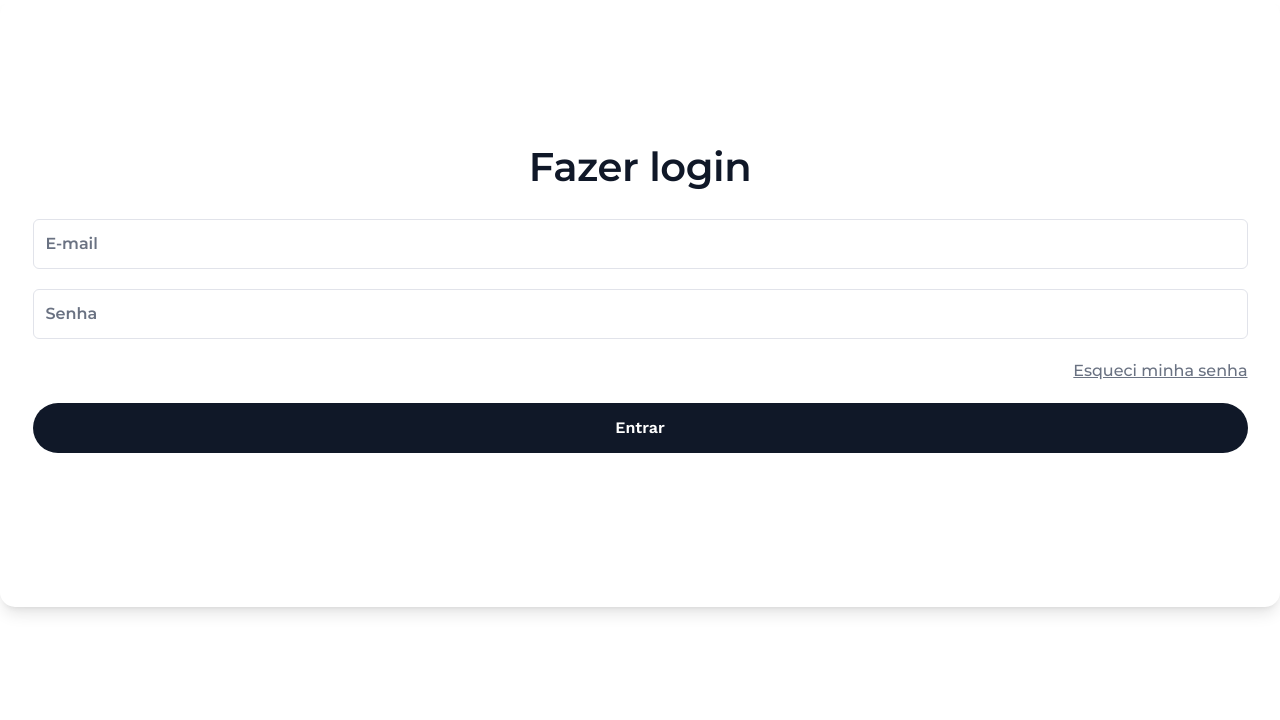
Test: LoginForm › should display validation errors for empty fields
Click the button "Entrar".
click(640, 428)  # box x1=32 y1=402 x2=1248 y2=452
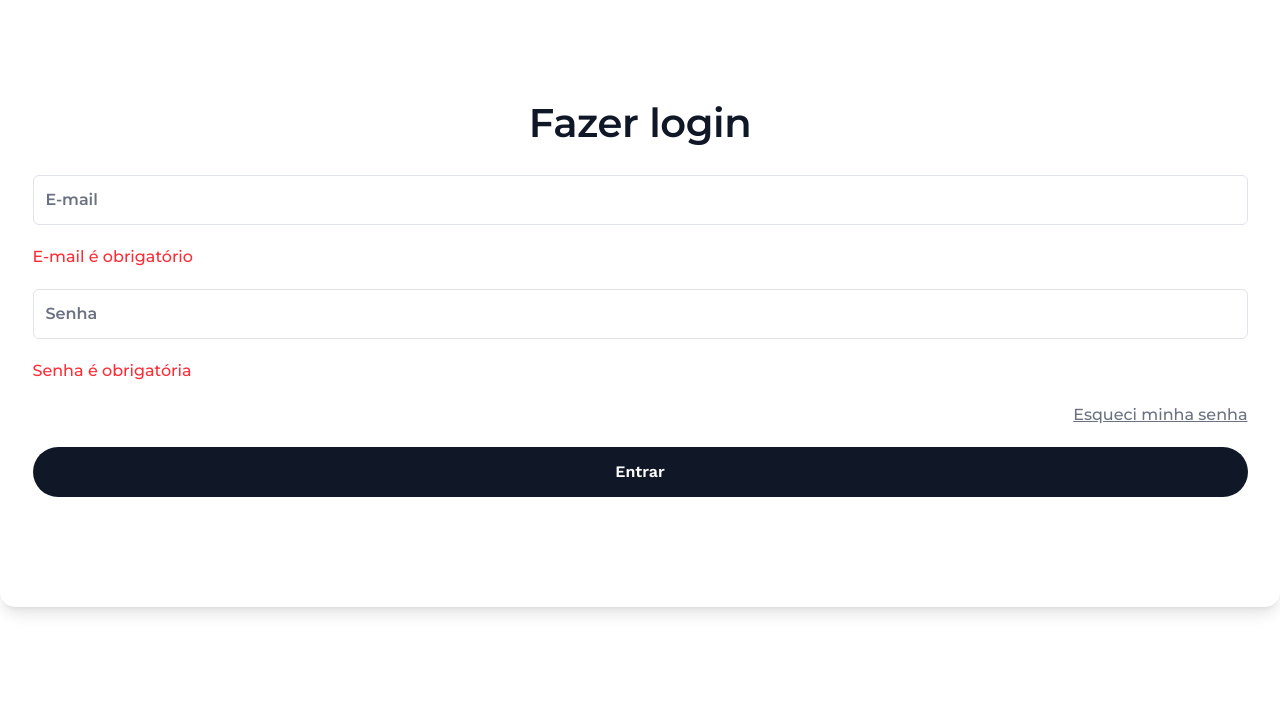
Result: the text "E-mail é obrigatório" is shown at x1=32 y1=244 x2=193 y2=268
Result: the text "Senha é obrigatória" is shown at x1=32 y1=358 x2=192 y2=382
